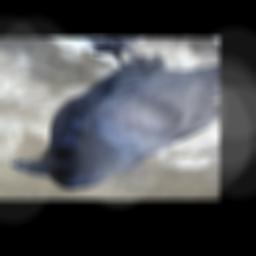Crow: (9, 38, 218, 190)
